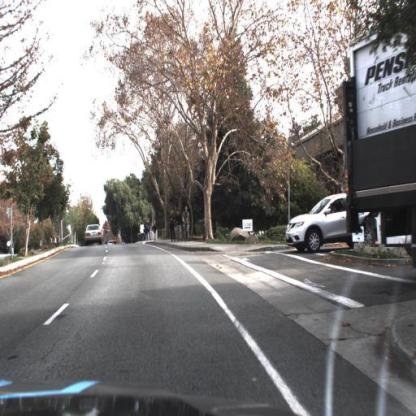car: (284, 193, 351, 256), (83, 223, 105, 246)
pedestrian: (86, 224, 104, 247), (183, 206, 192, 241), (184, 206, 192, 242), (169, 211, 177, 245), (169, 209, 176, 245), (177, 206, 183, 244), (152, 217, 159, 248), (175, 208, 181, 243), (145, 218, 152, 241), (140, 221, 146, 242)
